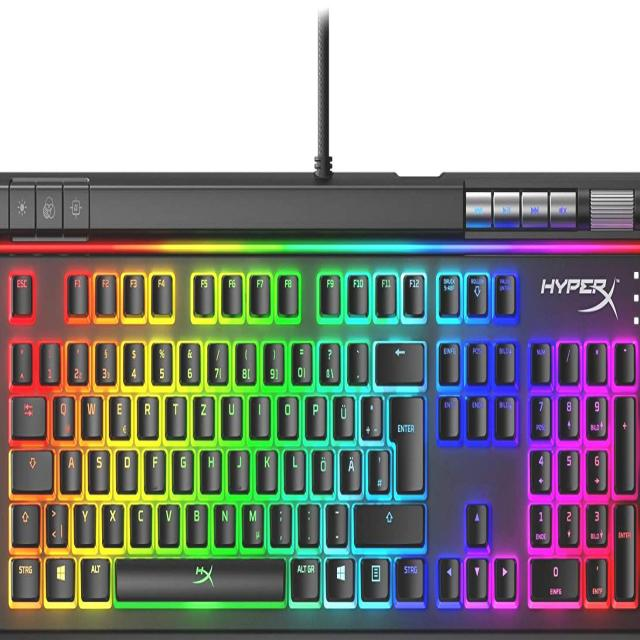0: (289, 337, 312, 383)
1: (37, 337, 59, 380)
2: (65, 337, 88, 381)
3: (94, 337, 116, 382)
4: (121, 337, 144, 381)
5: (150, 337, 172, 382)
6: (177, 337, 201, 382)
7: (205, 337, 228, 383)
8: (232, 338, 256, 384)
9: (260, 337, 284, 383)
a: (58, 444, 81, 489)
accent: (345, 338, 367, 382)
ae: (338, 445, 361, 491)
alt-left: (79, 552, 110, 598)
altgr-right: (289, 553, 319, 599)
b: (184, 499, 207, 543)
c: (128, 499, 151, 543)
caret: (10, 338, 31, 380)
comma: (268, 499, 290, 544)
d: (114, 444, 137, 490)
del: (374, 337, 423, 381)
e: (107, 390, 130, 436)
enter: (387, 390, 424, 489)
f: (143, 444, 165, 490)
g: (170, 444, 193, 489)
h: (198, 444, 220, 489)
hash: (366, 445, 389, 491)
i: (248, 391, 269, 435)
j: (227, 444, 249, 490)
k: (254, 444, 277, 490)
keyboard: (0, 227, 640, 639)
l: (282, 444, 304, 490)
less: (43, 497, 67, 544)
m: (240, 499, 264, 544)
minus: (323, 499, 347, 545)
n: (212, 499, 235, 543)
o: (275, 391, 298, 436)
oe: (310, 445, 333, 491)
p: (303, 391, 326, 436)
plus: (359, 391, 381, 437)
point: (296, 500, 319, 544)
q: (51, 390, 74, 435)
r: (135, 391, 158, 435)
s: (86, 444, 109, 489)
shift-left: (10, 499, 39, 543)
shift-lock: (10, 445, 53, 489)
shift-right: (352, 498, 423, 545)
space: (112, 552, 286, 601)
ss: (317, 338, 340, 383)
strg-left: (9, 551, 40, 598)
strg-right: (393, 553, 424, 599)
t: (164, 391, 186, 435)
tab: (10, 391, 45, 434)
u: (219, 391, 242, 436)
ue: (331, 391, 353, 437)
v: (156, 499, 179, 543)
w: (79, 390, 101, 435)
x: (101, 499, 124, 543)
y: (72, 499, 95, 543)
z: (192, 390, 214, 435)
